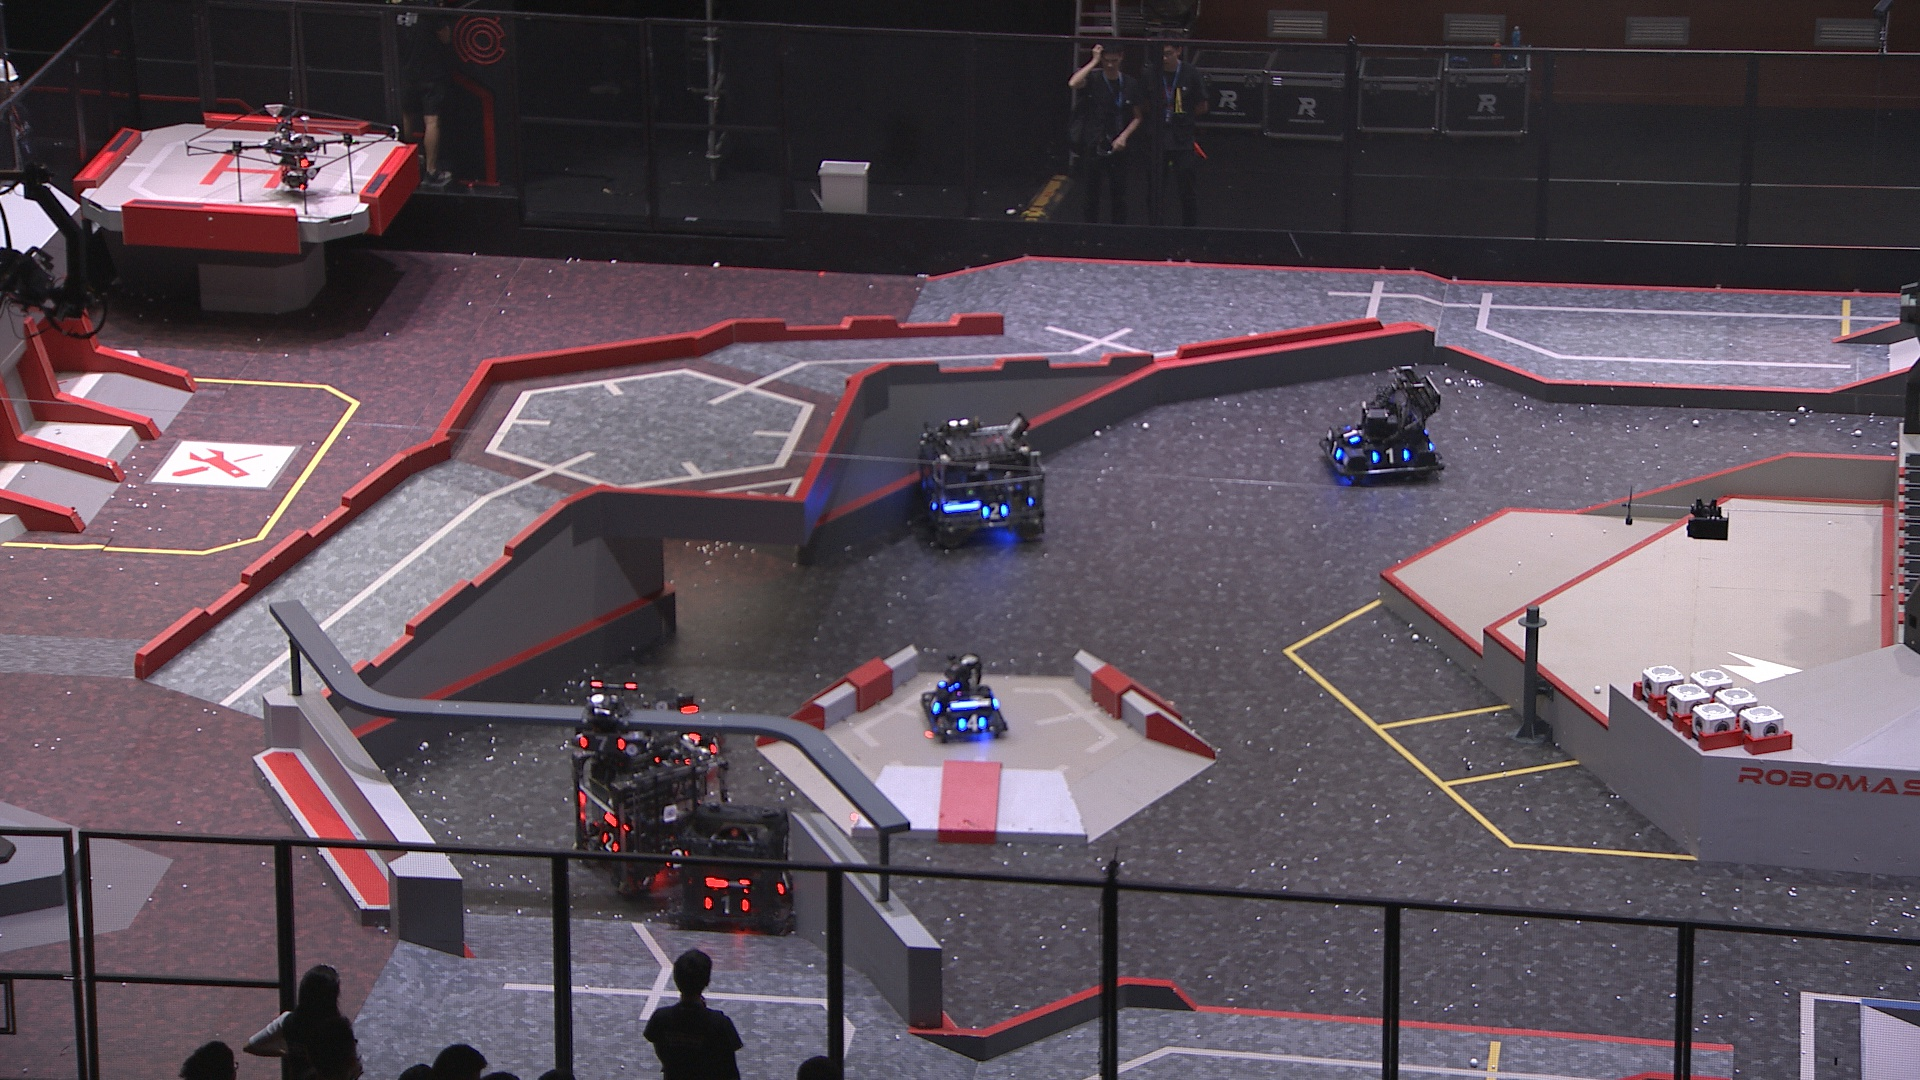armor: (574, 733, 629, 756), (703, 891, 752, 915), (1370, 444, 1414, 467), (978, 498, 1007, 524), (1338, 425, 1365, 451), (597, 828, 622, 855), (955, 713, 988, 732), (665, 847, 688, 872), (773, 870, 795, 897), (1325, 436, 1344, 463), (924, 694, 945, 713), (923, 491, 939, 513)
car: (571, 735, 727, 903), (671, 798, 806, 935), (916, 410, 1051, 546), (1317, 363, 1453, 491), (626, 688, 728, 782), (915, 651, 1010, 745)
watcher: (567, 679, 644, 779)
